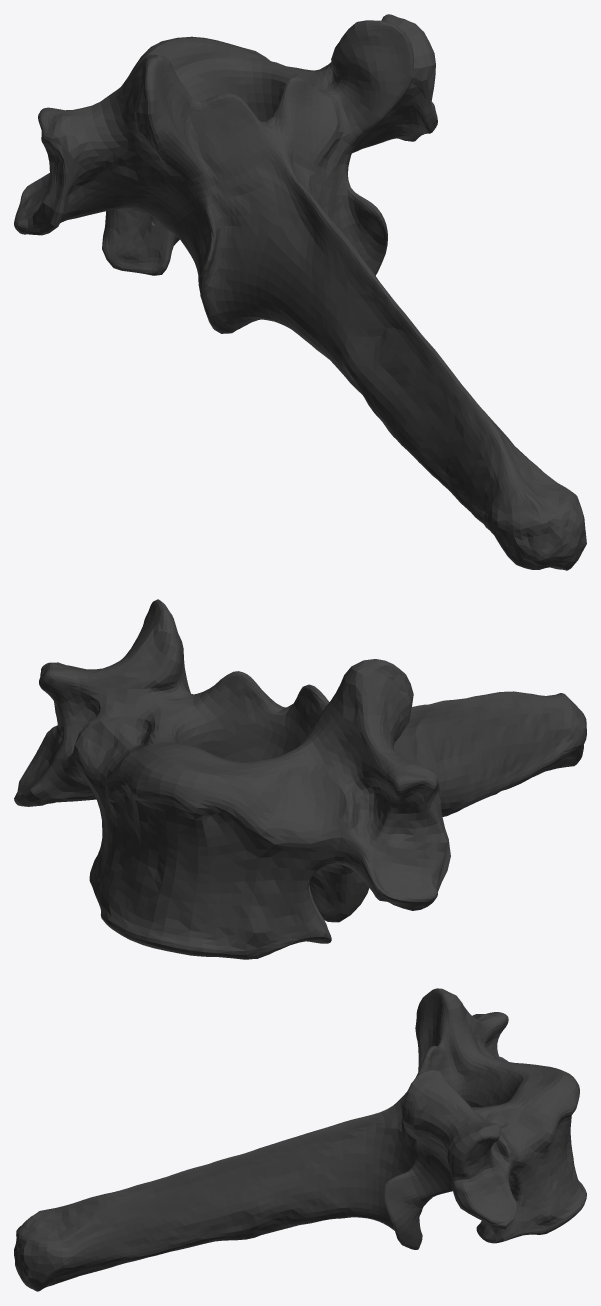
3 renders of one model, top to bottom at view 1: azimuth 30°, elevation 25°; view 2: azimuth 150°, elevation 25°; view 3: azimuth 270°, elevation 25°, orthographic. The views are drawn at different scales.
Parts seen in each view (by area): view 1: t1_low; view 2: t1_low; view 3: t1_low.
Part boxes in pixels (x1,y1,x2,y2): t1_low: (14, 14, 586, 570); t1_low: (14, 599, 586, 959); t1_low: (14, 988, 586, 1291).
Size of the model in its own units: 49.38 by 39.81 by 82.44.
1 material, 1 textured.
